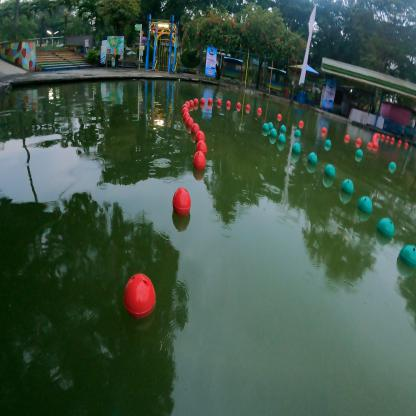green_buoy: (398, 244, 416, 270), (376, 217, 394, 238), (356, 196, 373, 214), (341, 178, 354, 195), (324, 163, 336, 179), (308, 152, 318, 165), (292, 142, 301, 153), (388, 162, 397, 172), (278, 134, 286, 144), (270, 128, 277, 138), (324, 139, 332, 147), (356, 149, 364, 157), (267, 121, 274, 130), (262, 123, 269, 132), (294, 129, 301, 138), (280, 124, 286, 133)
red_buoy: (125, 273, 155, 317), (172, 187, 192, 216), (193, 151, 206, 169), (196, 140, 207, 155), (196, 130, 206, 144), (191, 123, 200, 135), (186, 117, 194, 127), (182, 112, 190, 121), (182, 107, 188, 116), (184, 102, 190, 110), (182, 104, 188, 112), (372, 142, 378, 149), (367, 142, 373, 149), (200, 97, 205, 105), (236, 102, 242, 108), (344, 134, 350, 140), (356, 138, 362, 144), (194, 98, 199, 105), (189, 100, 194, 107), (226, 100, 231, 106), (245, 104, 250, 110), (277, 112, 282, 118), (299, 120, 304, 126), (372, 135, 377, 141), (257, 108, 262, 113), (372, 139, 377, 144), (208, 98, 212, 104), (217, 99, 221, 105), (322, 127, 326, 133), (374, 133, 378, 138), (381, 134, 385, 139), (390, 137, 394, 142), (398, 139, 402, 144), (404, 142, 408, 147), (386, 136, 390, 140), (377, 133, 380, 137)
